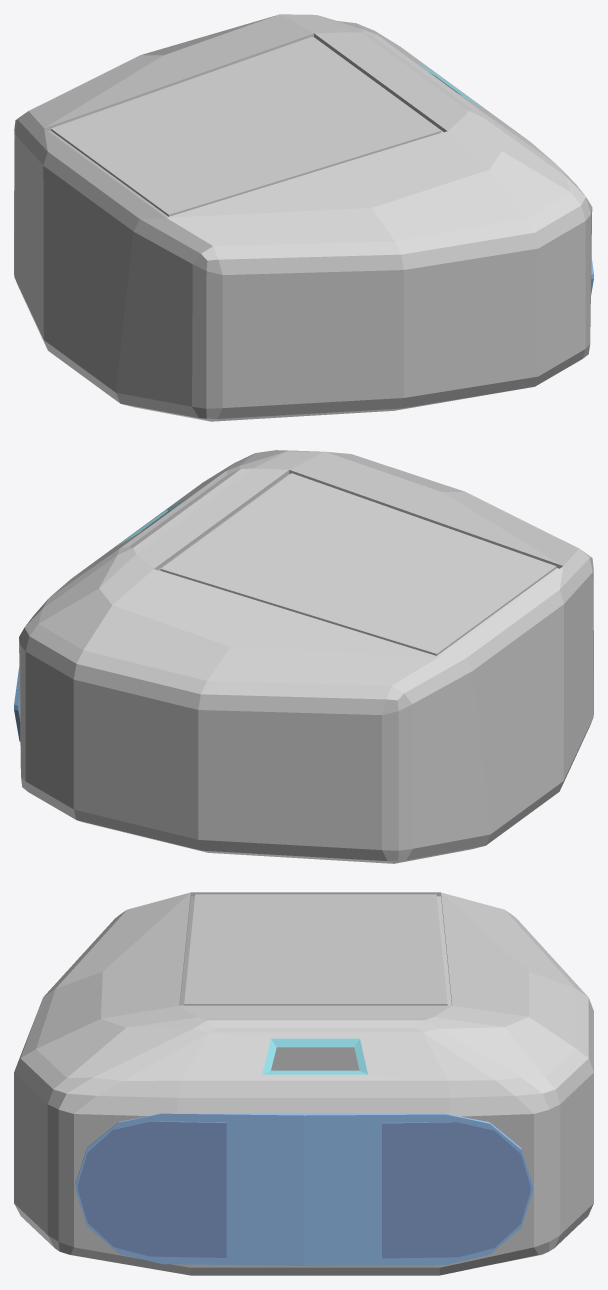
Rendered from musicplayer.fbx.
3 views of the same model, one above another, from view 1: azimuth 30°, elevation 25°; view 2: azimuth 150°, elevation 25°; view 3: azimuth 270°, elevation 25° (orthographic). The views are drawn at different scales.
Parts seen in each view (by area): view 1: cdplayer; view 2: cdplayer; view 3: cdplayer.
Boxes of the visible parts, x1,y1,x2,y2 form: cdplayer: [14, 14, 593, 421]; cdplayer: [14, 450, 593, 863]; cdplayer: [14, 892, 593, 1275].
Size of the model in its own units: 640 by 348 by 779.
